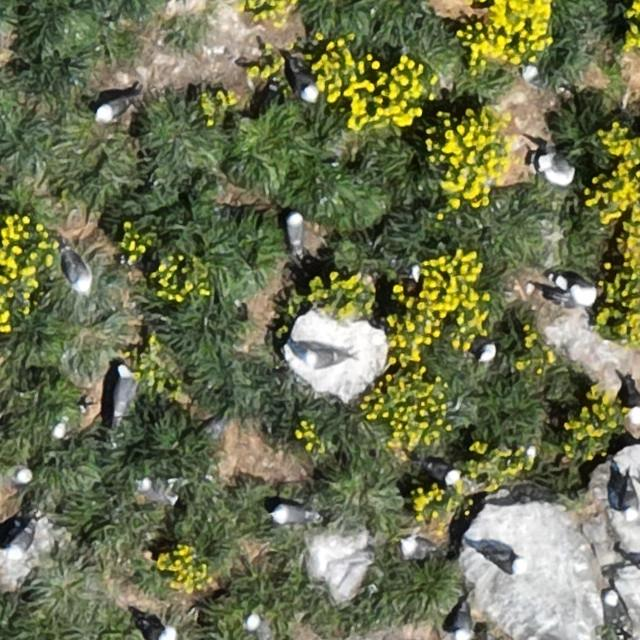umineko: (554, 273, 595, 307), (607, 585, 633, 633), (397, 537, 438, 563), (64, 254, 90, 292), (115, 368, 136, 414), (485, 548, 522, 572), (294, 67, 318, 102), (97, 96, 132, 120), (540, 158, 572, 183), (426, 462, 458, 485), (7, 529, 32, 558), (273, 506, 313, 524), (287, 212, 305, 250), (522, 66, 554, 85), (303, 349, 337, 366), (246, 614, 271, 636), (622, 486, 638, 518), (454, 608, 469, 639), (626, 385, 639, 416), (145, 626, 173, 640), (478, 341, 496, 362), (14, 467, 32, 486)
